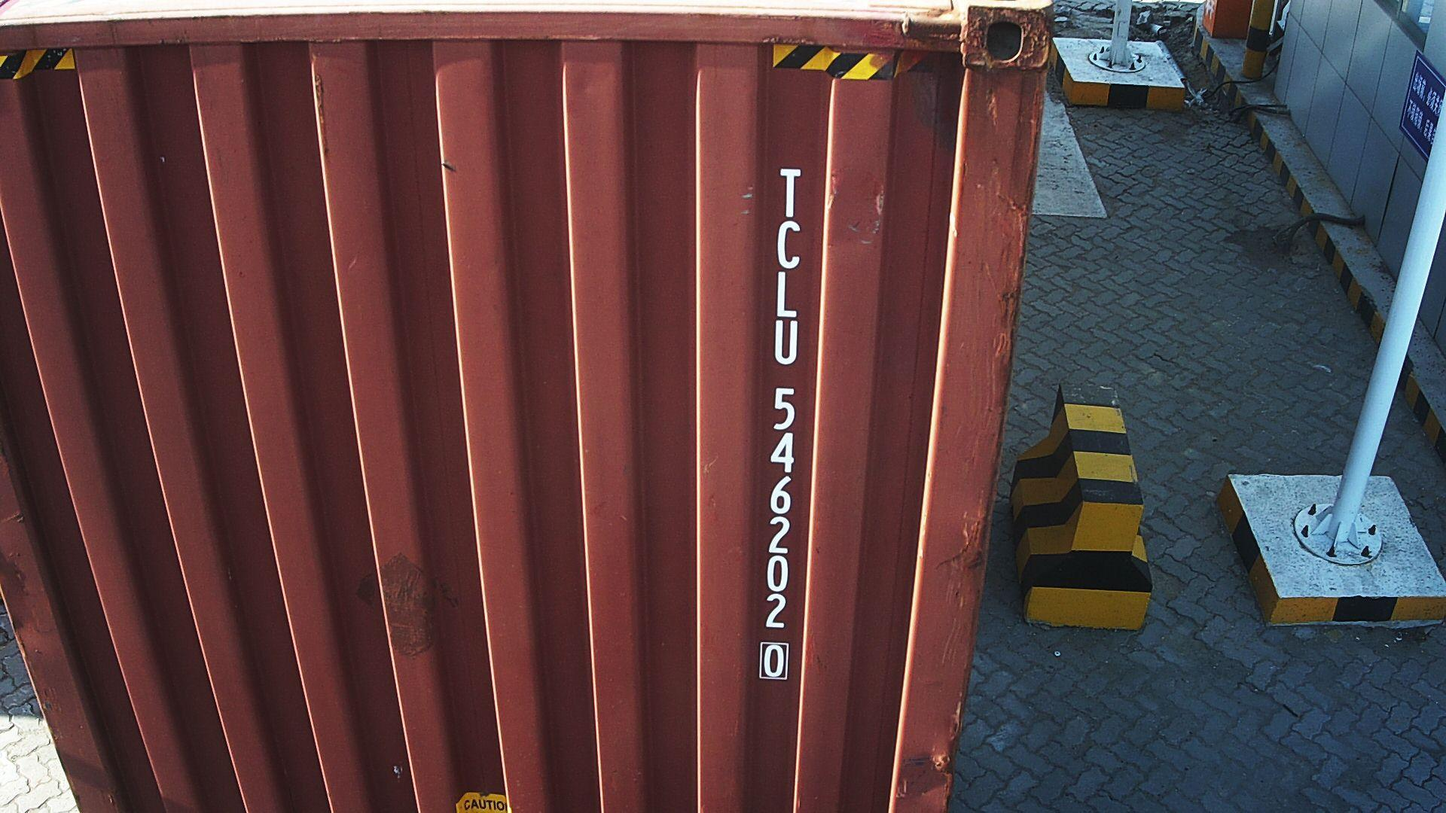container-numbers: (749, 162, 809, 687)
